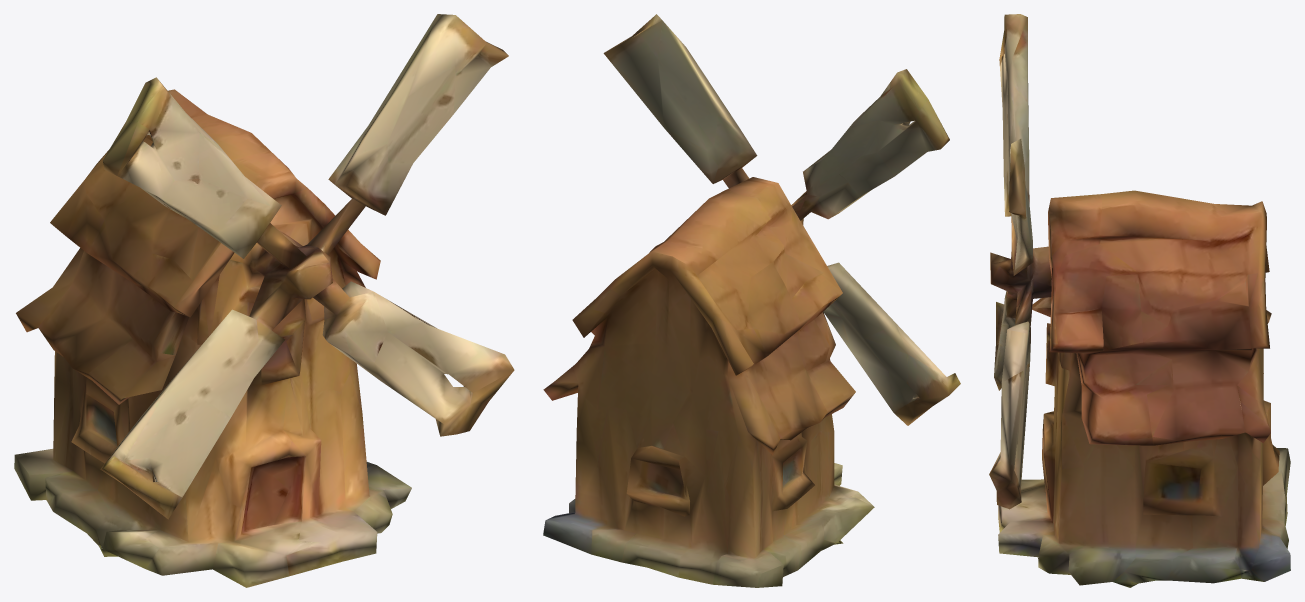
Rendered from mill.glb.
The picture shows the model from 3 angles, left to right: view 1: azimuth 30°, elevation 25°; view 2: azimuth 150°, elevation 25°; view 3: azimuth 270°, elevation 25°; orthographic projection. The views are drawn at different scales.
Parts seen in each view (by area): view 1: tripo_node_9f757402-ba0a-4ba5-851d-fcaf3c3e6354; view 2: tripo_node_9f757402-ba0a-4ba5-851d-fcaf3c3e6354; view 3: tripo_node_9f757402-ba0a-4ba5-851d-fcaf3c3e6354.
Part boxes in pixels (x1,y1,x2,y2): tripo_node_9f757402-ba0a-4ba5-851d-fcaf3c3e6354: [14, 14, 514, 587]; tripo_node_9f757402-ba0a-4ba5-851d-fcaf3c3e6354: [543, 14, 960, 587]; tripo_node_9f757402-ba0a-4ba5-851d-fcaf3c3e6354: [989, 14, 1290, 587].
Bounding box in the file's own units: 0.8089 × 0.9784 × 0.5862.
1 material, 1 textured.
